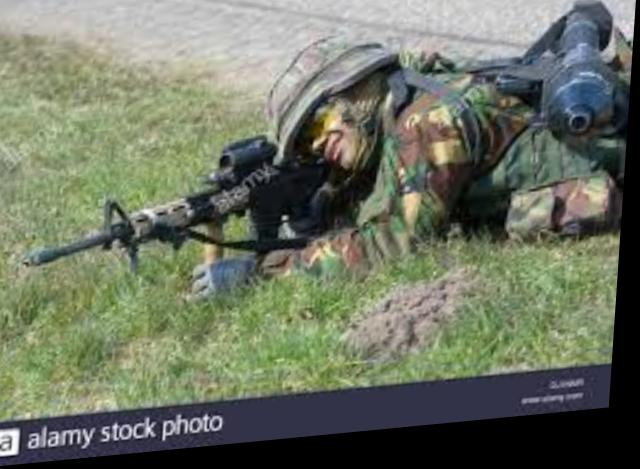other: (18, 5, 636, 323)
